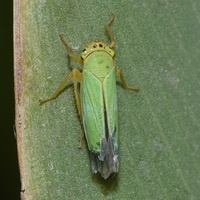insect: (39, 13, 139, 178)
